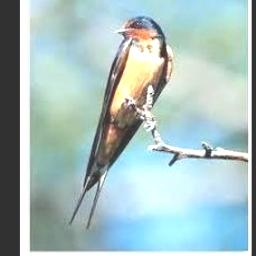Swallow: (69, 15, 174, 229)
